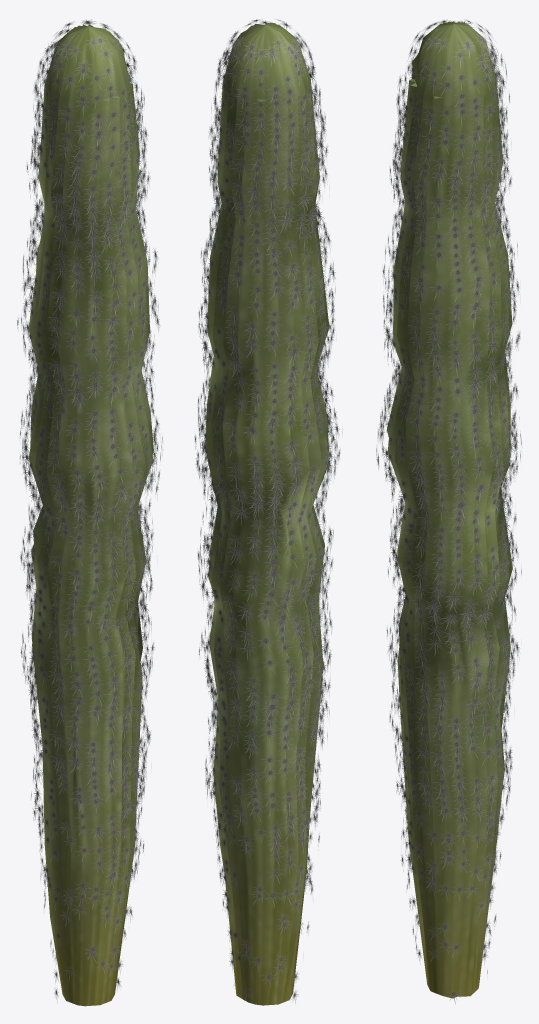
Rendered from cactus_saguaro_0.glb.
3 views of the same model, side by side, from view 1: azimuth 30°, elevation 25°; view 2: azimuth 150°, elevation 25°; view 3: azimuth 270°, elevation 25° (orthographic).
Parts seen in each view (by area): view 1: prop; view 2: prop; view 3: prop.
Boxes of the visible parts, bbox=[...] form: prop: bbox=[17, 19, 162, 1006]; prop: bbox=[194, 19, 342, 1005]; prop: bbox=[376, 20, 521, 1003].
Bounding box in the file's own units: 0.8203 × 5.95 × 0.8364.
Materials: 2 (2 with a texture image).
